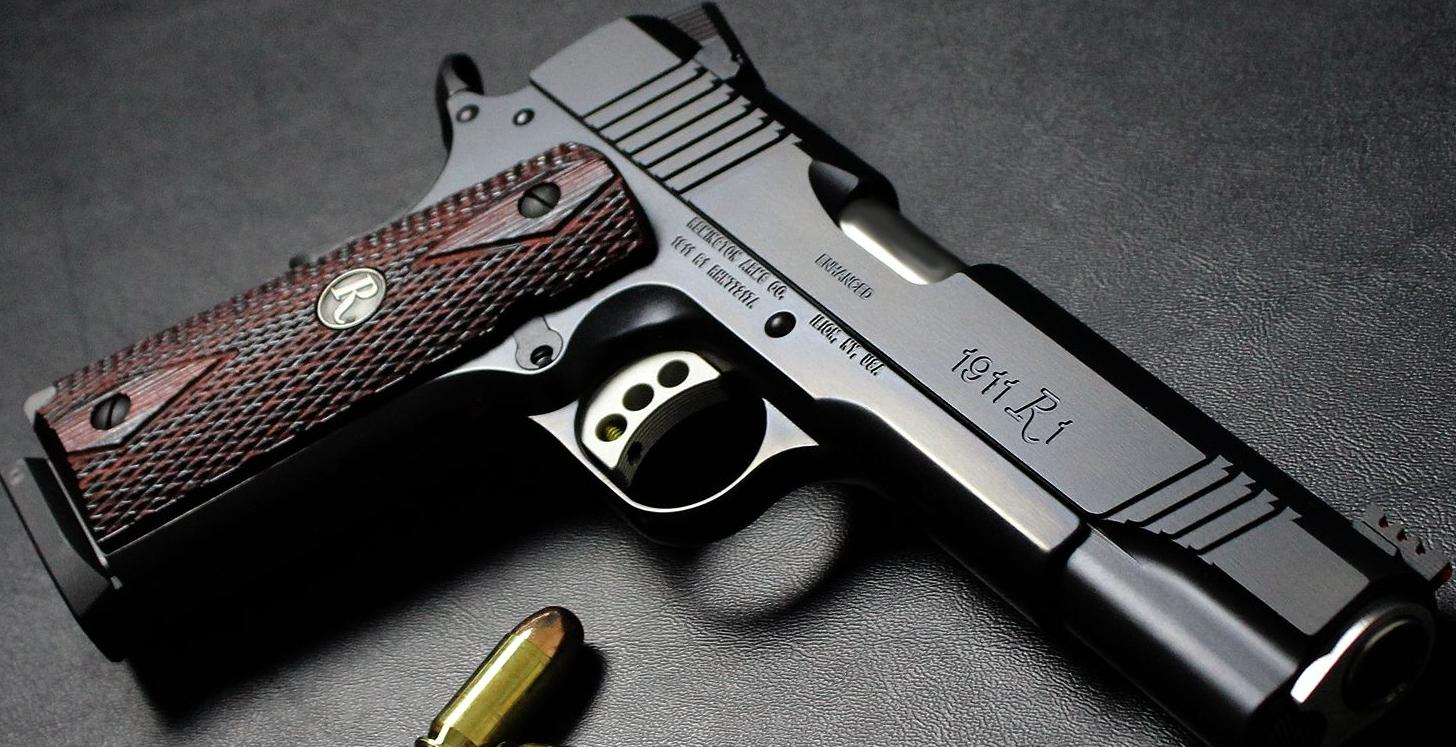gun: (0, 1, 1456, 747)
